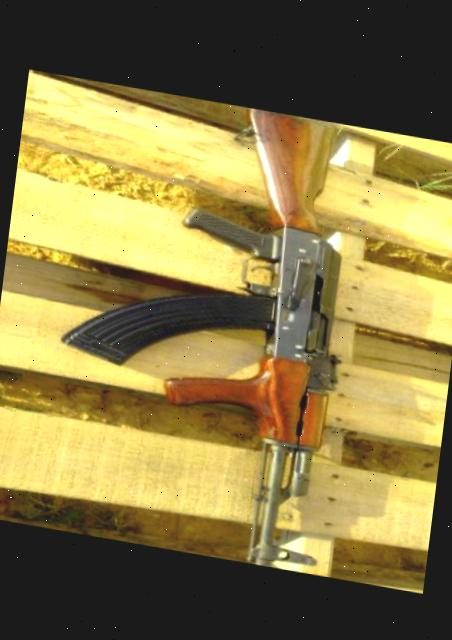rifle: (40, 78, 372, 574)
